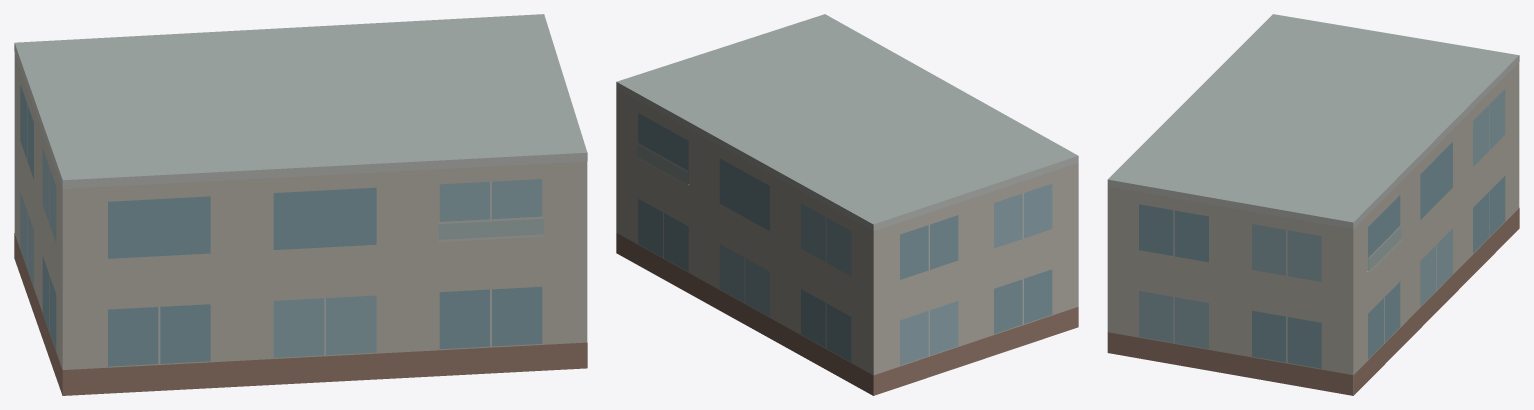
Rendered from survey-upis-32562270.glb.
3 renders of one model, left to right at view 1: azimuth 30°, elevation 25°; view 2: azimuth 150°, elevation 25°; view 3: azimuth 270°, elevation 25°, orthographic. The views are drawn at different scales.
Parts seen in each view (by area): view 1: survey-upis-32562270.tmp; view 2: survey-upis-32562270.tmp; view 3: survey-upis-32562270.tmp.
Boxes of the visible parts, <box> form: survey-upis-32562270.tmp: <box>14,14,587,395</box>; survey-upis-32562270.tmp: <box>616,14,1078,395</box>; survey-upis-32562270.tmp: <box>1107,14,1519,395</box>.
Bounding box in the file's own units: 15.74 × 6.1 × 13.14.
